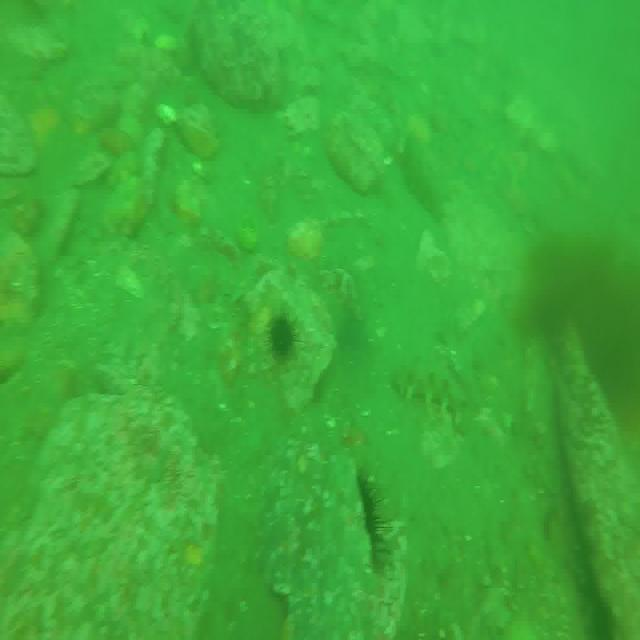echinus: (343, 470, 384, 563), (267, 315, 297, 357)
holothurian: (393, 354, 467, 419), (402, 116, 446, 219)
